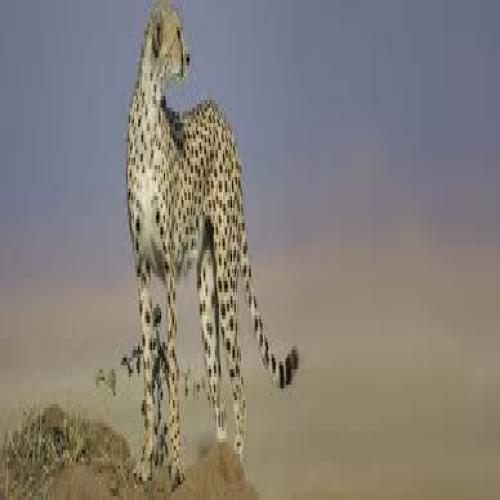cheetah-endangered: (114, 2, 309, 485)
